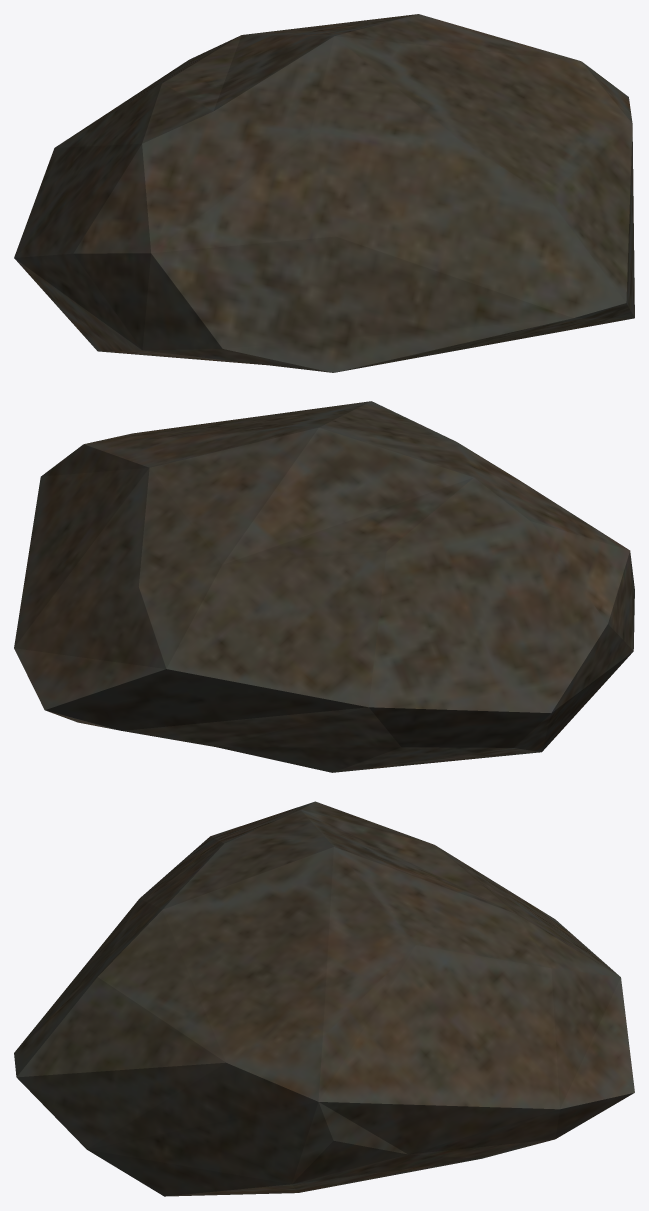
File: piedra_stone_06.glb
3 views of the same model, one above another, from view 1: azimuth 30°, elevation 25°; view 2: azimuth 150°, elevation 25°; view 3: azimuth 270°, elevation 25° (orthographic). The views are drawn at different scales.
Visible parts, largest first — view 1: Stone_06; view 2: Stone_06; view 3: Stone_06.
Part boxes in pixels (x1,y1,x2,y2): Stone_06: [14, 14, 634, 372]; Stone_06: [14, 401, 634, 772]; Stone_06: [14, 801, 634, 1196].
Size of the model in its own units: 1 by 0.4484 by 0.9918.
Materials: 1 (1 with a texture image).
